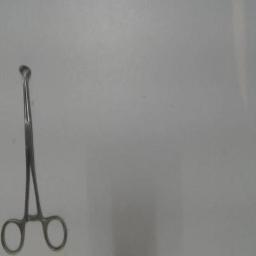Babcock Tissue Forceps: (0, 60, 70, 256)
